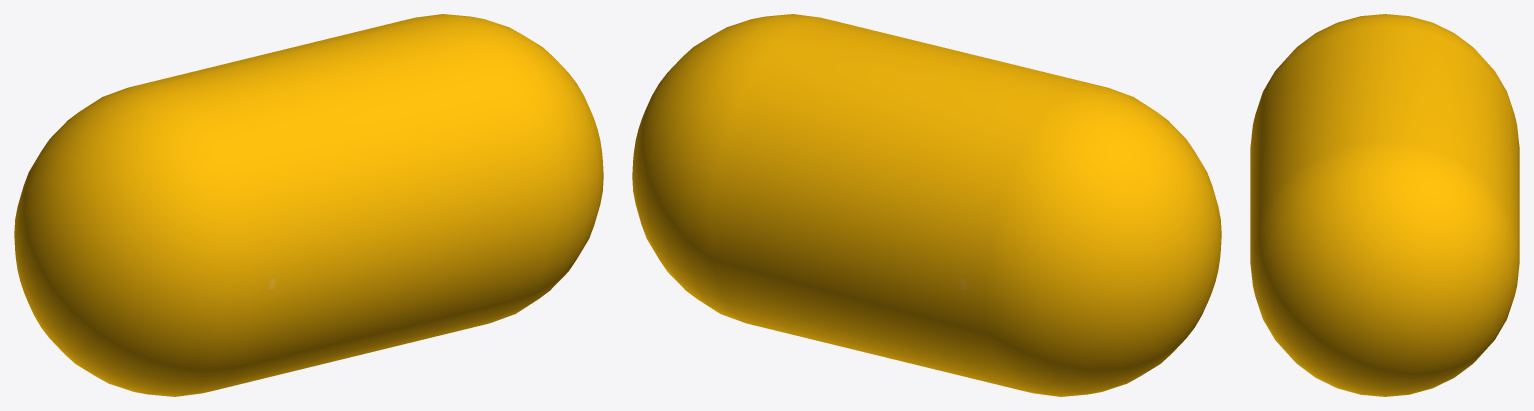
Rendered from block_yellow.glb.
3 views of the same model, side by side, from view 1: azimuth 30°, elevation 25°; view 2: azimuth 150°, elevation 25°; view 3: azimuth 270°, elevation 25° (orthographic). The views are drawn at different scales.
Parts seen in each view (by area): view 1: Sphere; view 2: Sphere; view 3: Sphere.
Part boxes in pixels (x1=…): Sphere: x1=14, y1=14, x2=603, y2=396; Sphere: x1=632, y1=14, x2=1221, y2=396; Sphere: x1=1250, y1=14, x2=1519, y2=396.
Bounding box in the file's own units: 2 × 1 × 1.
Materials: 1 (1 with a texture image).
